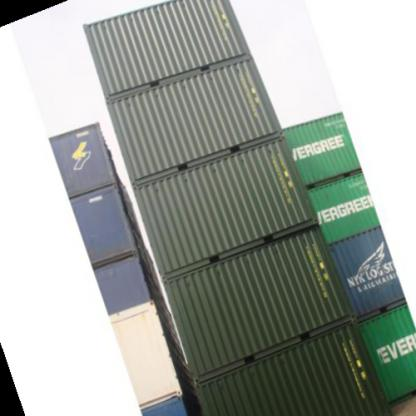Damage: (148, 173, 167, 202), (121, 91, 136, 115), (263, 140, 279, 162), (182, 269, 196, 294), (209, 157, 218, 178), (203, 64, 213, 82)
